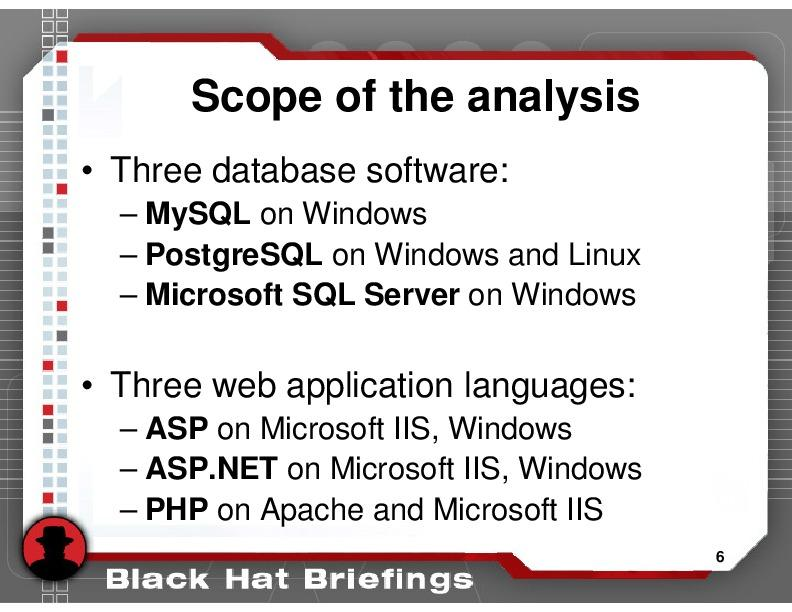paragraph: (94, 140, 685, 540)
subtitle: (98, 560, 480, 605)
title: (188, 66, 647, 122)
